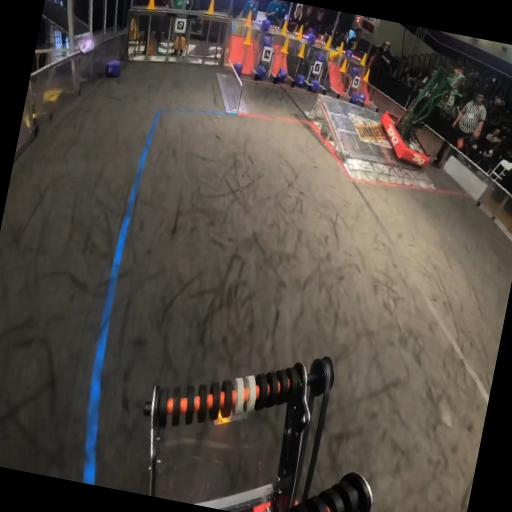robot: (373, 57, 456, 172)
